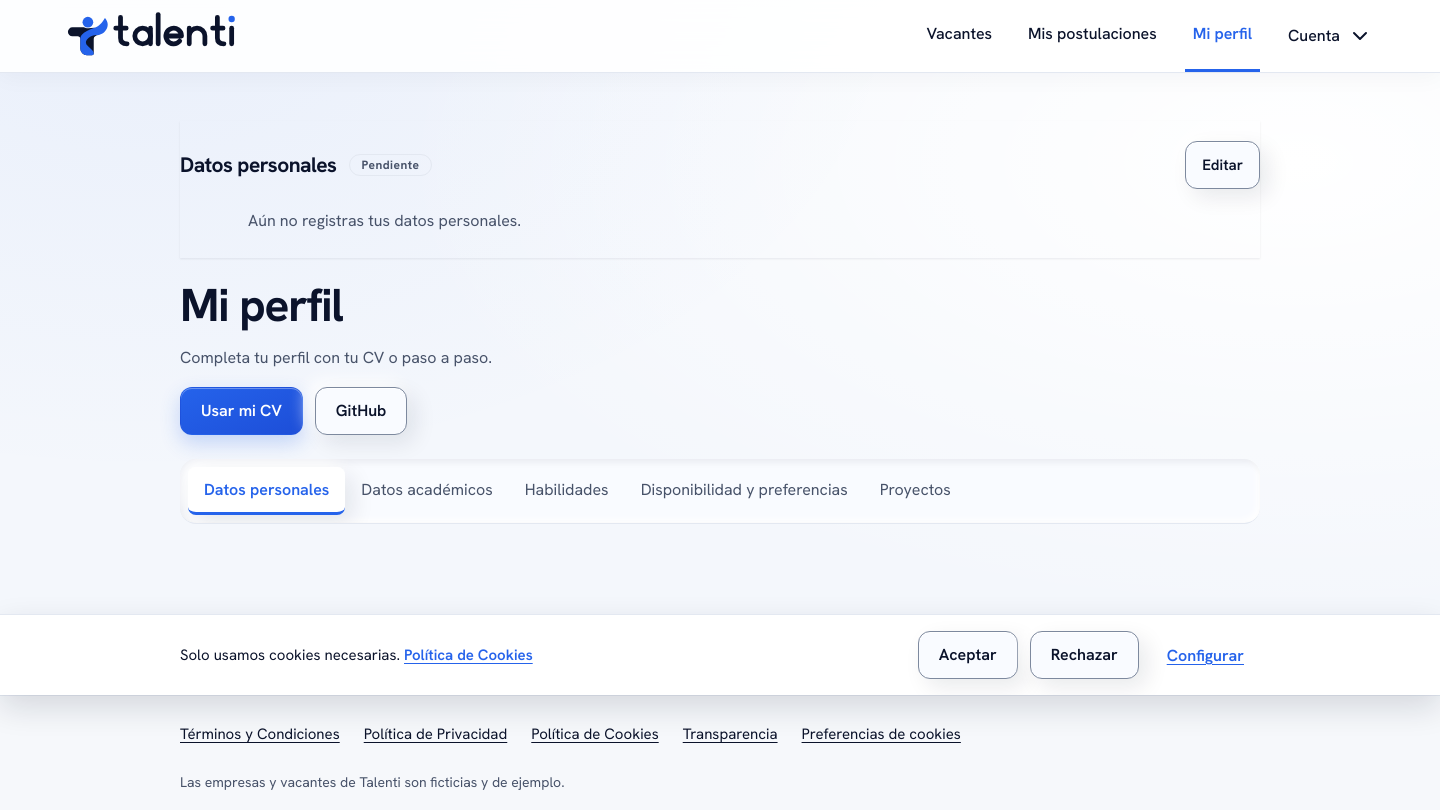
it: Page /perfil: states and progress (006-14, 006-20) › shows five sections in top navigation and exactly one editor
The image size is (1440, 810).
Expected: the navigation bar named "Mi perfil" is shown, left=180, top=458, right=1260, bottom=524
Expected: the element "Datos personales" is shown, left=180, top=121, right=1260, bottom=258
What coordinates should you click on to do the following:
click the button "Habilidades"
I would click on:
 (567, 490)
Its box is left=509, top=466, right=625, bottom=514.
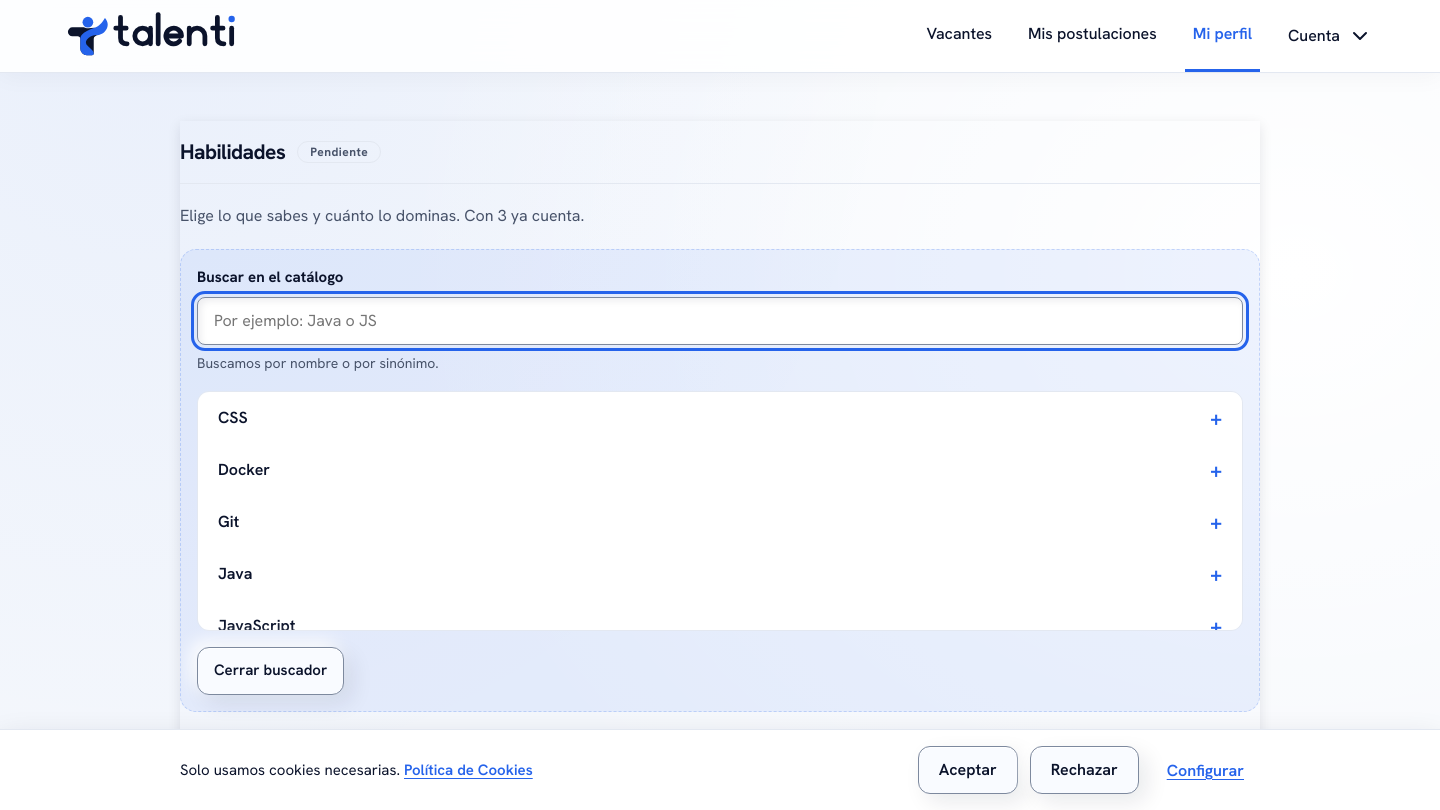
Expected: the element "Datos personales" is not shown
Result: the search field labelled "Buscar en el catálogo" is shown at left=197, top=297, right=1243, bottom=345
